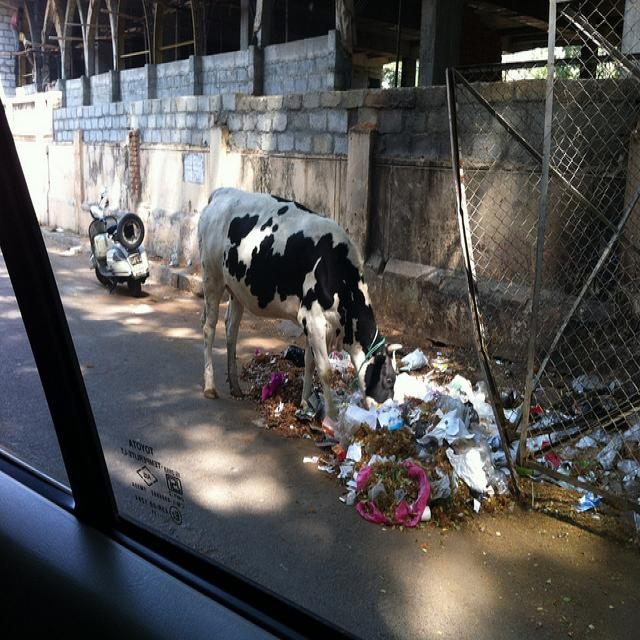motor: (89, 187, 150, 297)
